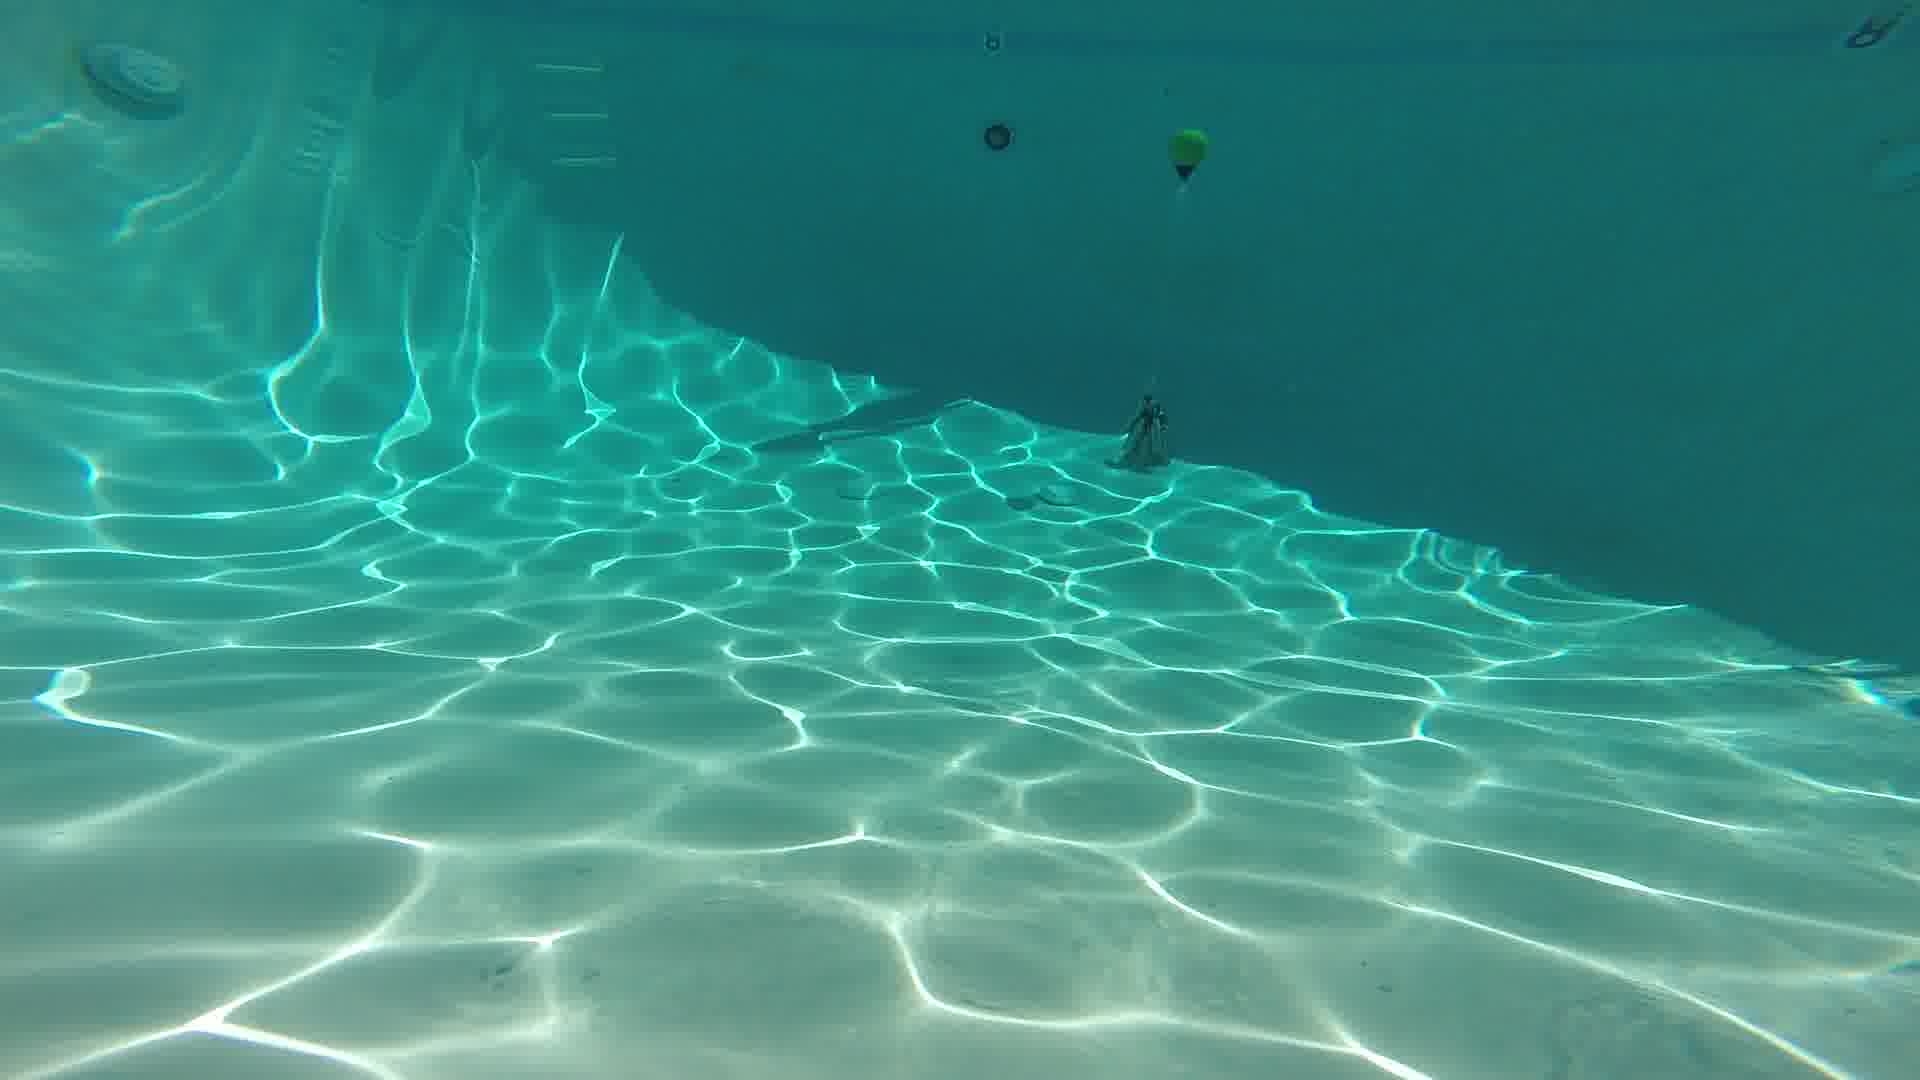yellow_buoy: (1168, 127, 1207, 185)
